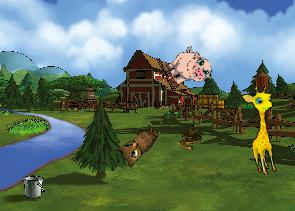giraffe: (239, 83, 288, 177)
owl: (112, 116, 161, 170)
pig: (161, 42, 215, 95)
